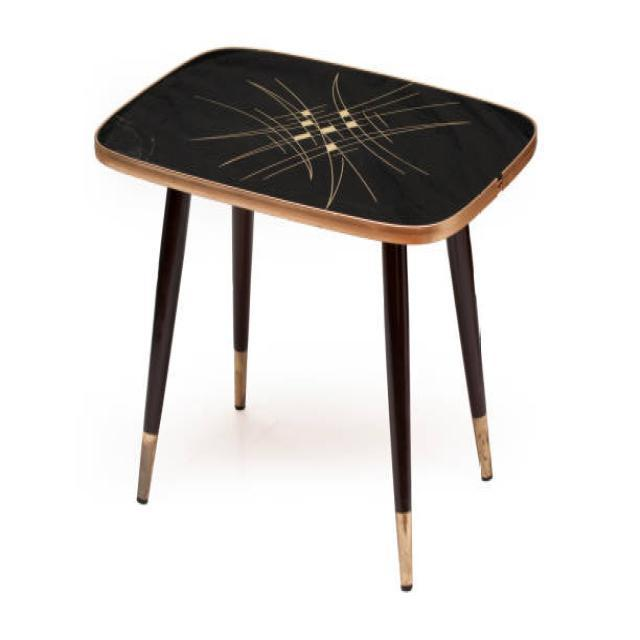table: (93, 44, 538, 591)
